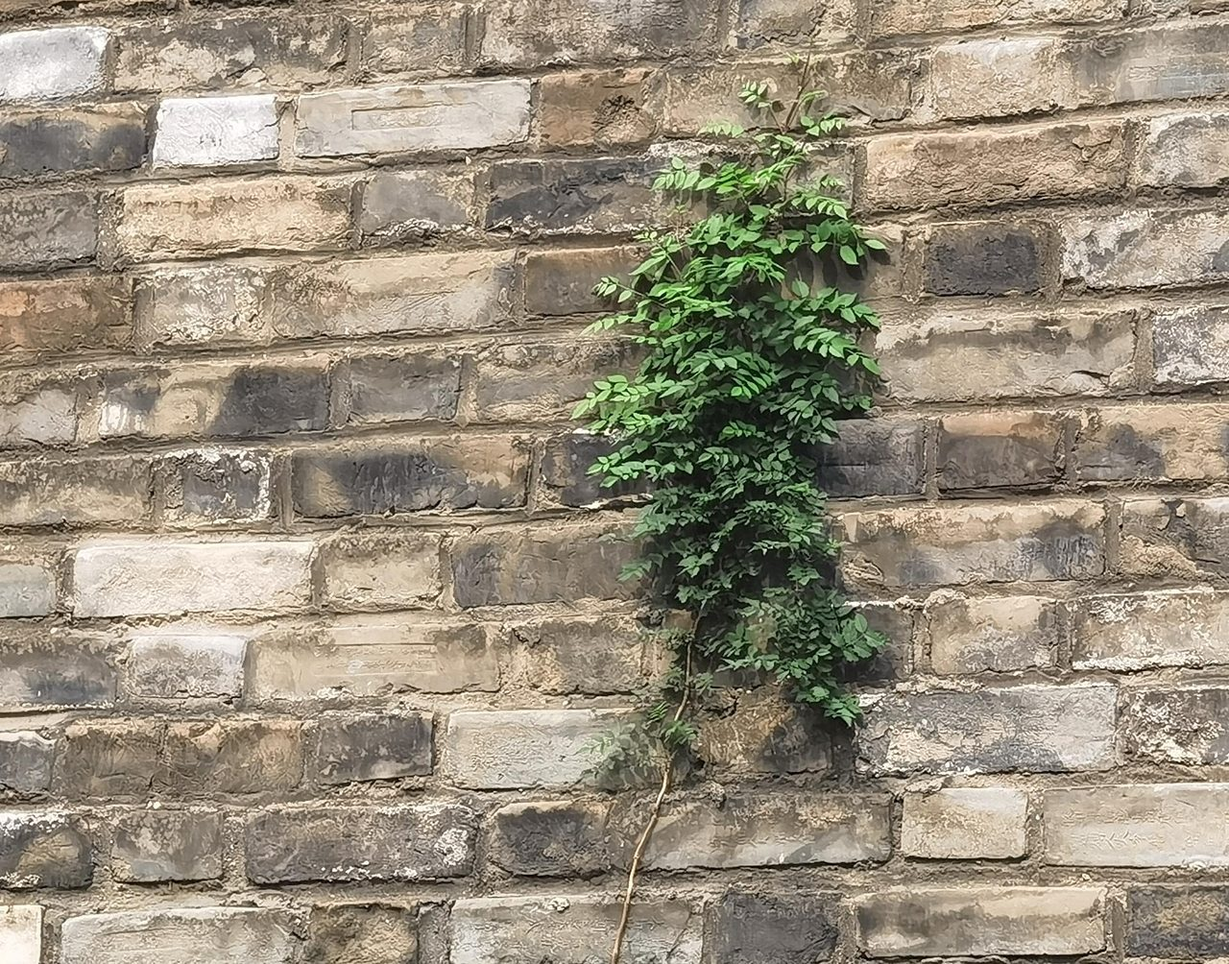vegetation: (573, 51, 899, 803)
